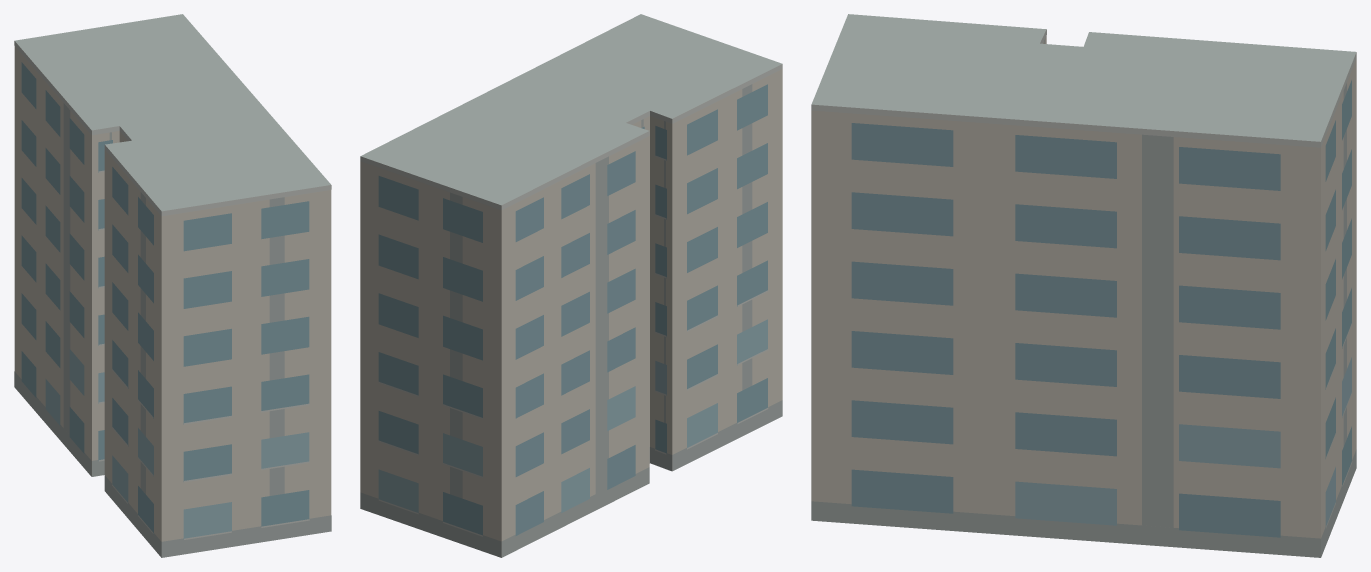
File: survey-upis-32713666.glb
The picture shows the model from 3 angles, left to right: view 1: azimuth 30°, elevation 25°; view 2: azimuth 150°, elevation 25°; view 3: azimuth 270°, elevation 25°; orthographic projection. The views are drawn at different scales.
Visible parts, largest first — view 1: survey-upis-32713666.tmp; view 2: survey-upis-32713666.tmp; view 3: survey-upis-32713666.tmp.
Boxes of the visible parts, bbox=[...] form: survey-upis-32713666.tmp: bbox=[14, 14, 331, 557]; survey-upis-32713666.tmp: bbox=[360, 14, 782, 557]; survey-upis-32713666.tmp: bbox=[811, 14, 1356, 557].
Bounding box in the file's own units: 11.28 × 17.1 × 20.32.
